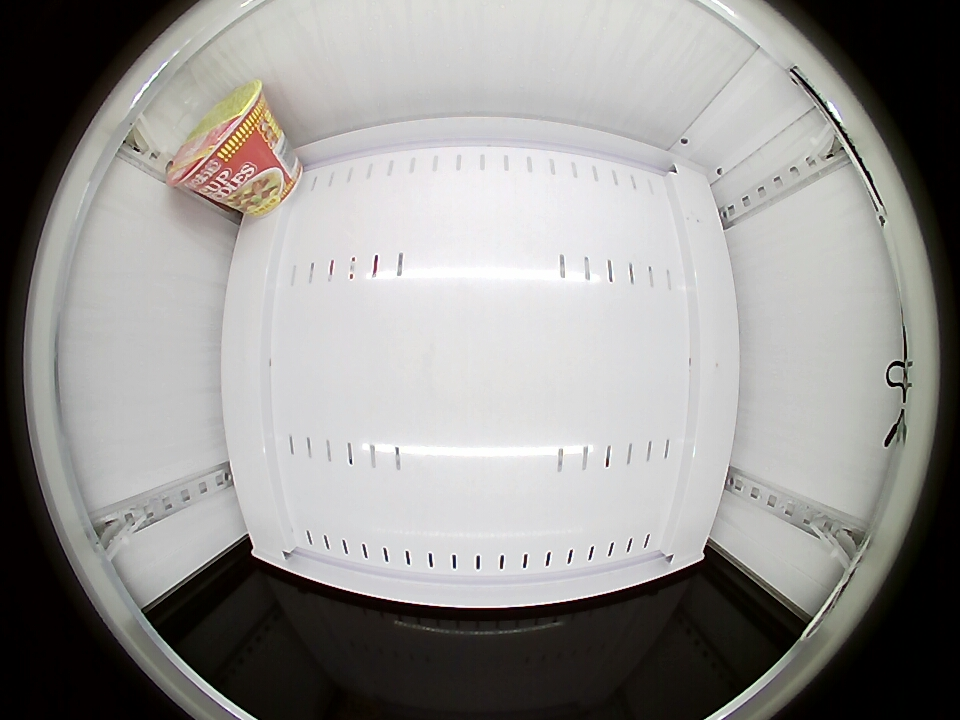heweidao3: (167, 81, 272, 195)
